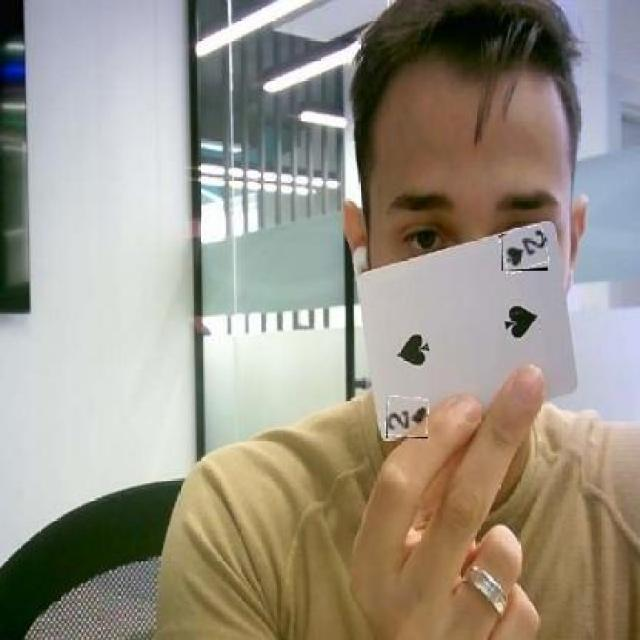2S: (502, 227, 548, 271), (386, 397, 428, 438)
